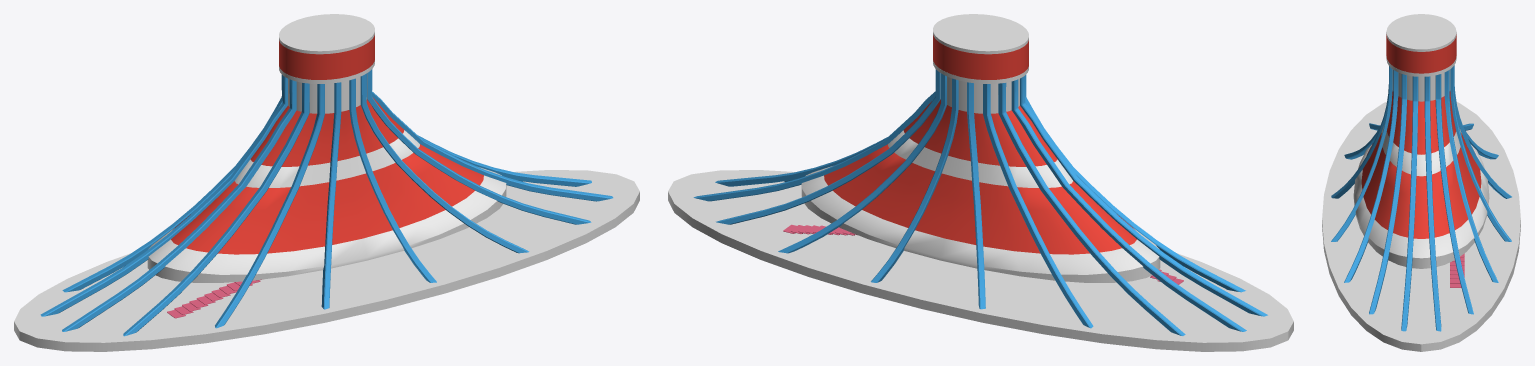
Rendered from Landing_building1.fbx.
3 views of the same model, side by side, from view 1: azimuth 30°, elevation 25°; view 2: azimuth 150°, elevation 25°; view 3: azimuth 270°, elevation 25° (orthographic). The views are drawn at different scales.
Visible parts, largest first — view 1: Starting building_LOD0.001, Starting building_LOD0, Starting building_LOD0.002, Starting building_LOD0.003; view 2: Starting building_LOD0.001, Starting building_LOD0, Starting building_LOD0.002, Starting building_LOD0.003; view 3: Starting building_LOD0.001, Starting building_LOD0, Starting building_LOD0.002, Starting building_LOD0.003.
Boxes of the visible parts, <box> form: Starting building_LOD0.001: <box>14,14,639,351</box>; Starting building_LOD0: <box>40,69,613,336</box>; Starting building_LOD0.002: <box>171,35,483,254</box>; Starting building_LOD0.003: <box>167,279,261,318</box>; Starting building_LOD0.001: <box>668,14,1293,351</box>; Starting building_LOD0: <box>693,69,1267,335</box>; Starting building_LOD0.002: <box>824,35,1136,254</box>; Starting building_LOD0.003: <box>783,224,1183,284</box>; Starting building_LOD0.001: <box>1322,14,1520,351</box>; Starting building_LOD0: <box>1331,65,1511,331</box>; Starting building_LOD0.002: <box>1361,34,1481,238</box>; Starting building_LOD0.003: <box>1450,253,1464,287</box>.
Size of what is drawn, in the model's own units: 791 by 286 by 265.
